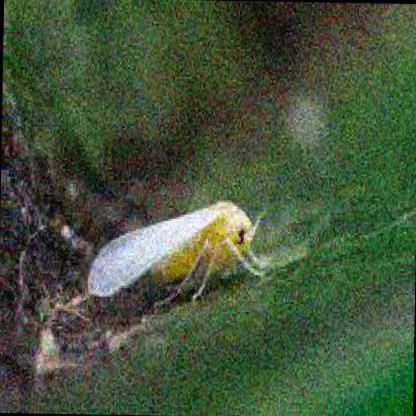whitefly: (85, 205, 253, 293)
